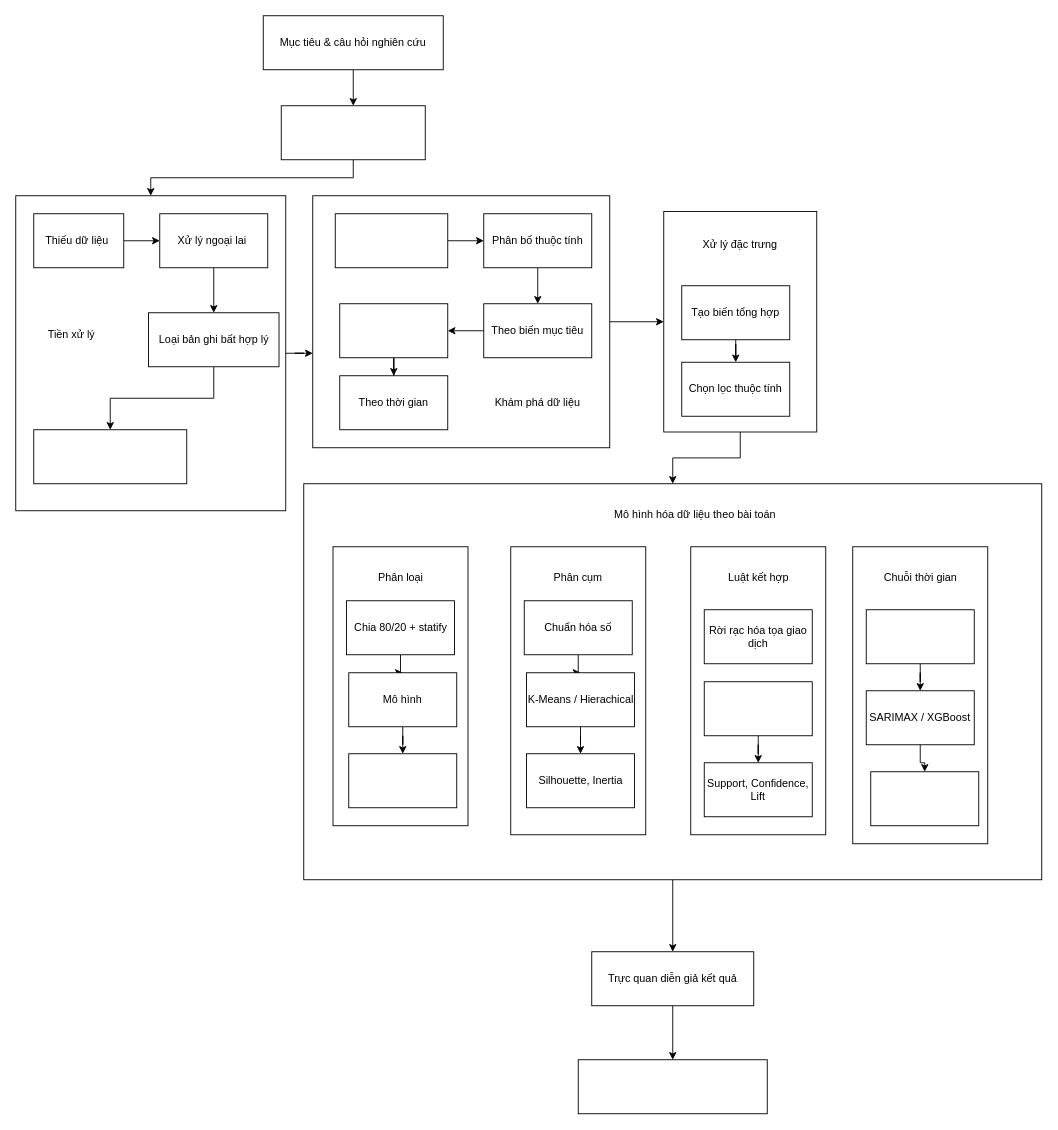
The diagram is 1058 pixels wide and 1130 high, and some of its shapes have lost their labels. Here are the shapes that lost their labels. From the top down, the centre of each, then its label:
At [352,132]: "Thu thập/ Nạp dữ liệu".
At [391,240]: "Thống ké mô tả".
At [393,330]: "Tương quan".
At [110,456]: "Chuẩn hóa dạng thời gian".
At [919,636]: "Tổng hợp đặc trưng theo tháng".
At [757,708]: "Apriori".
At [402,780]: "Accuracy, Precision, Recall, F1, Confusion Matrix".
At [924,798]: "MAE, RMSE + So sánh thực tế và dự báo".
At [672,1086]: "Trả lời câu hỏi nghiên cứu".
